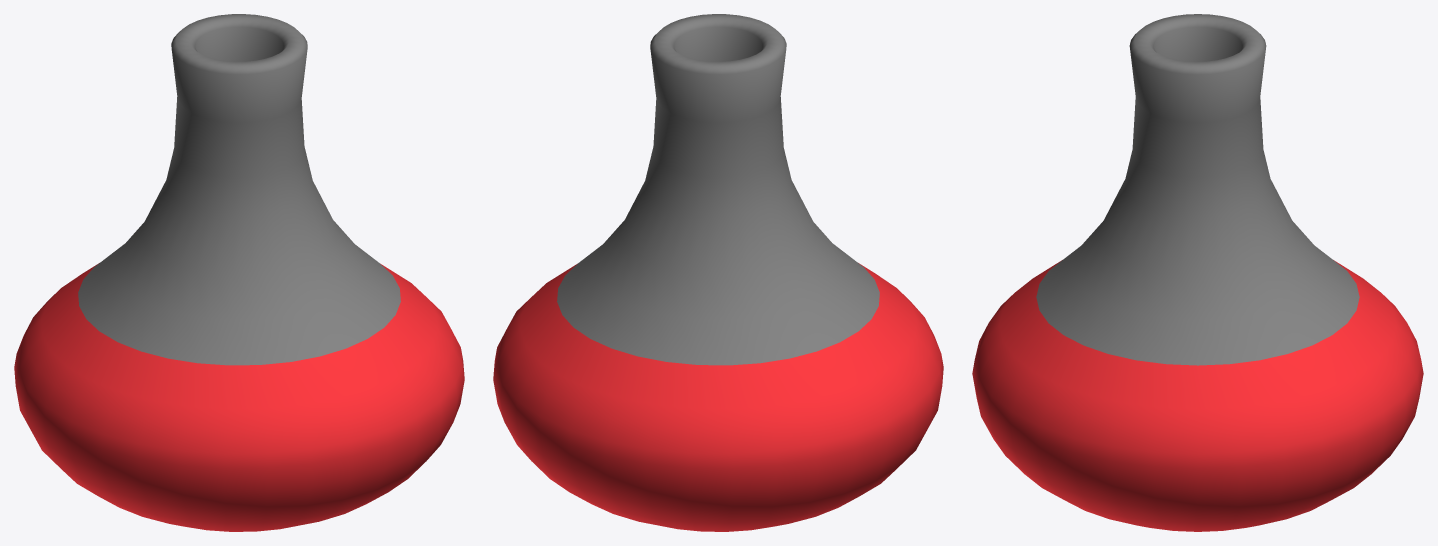
File: potion.glb
3 renders of one model, left to right at view 1: azimuth 30°, elevation 25°; view 2: azimuth 150°, elevation 25°; view 3: azimuth 270°, elevation 25°, orthographic.
Parts seen in each view (by area): view 1: potion; view 2: potion; view 3: potion.
Part boxes in pixels (x1=…): potion: x1=14, y1=14, x2=464, y2=531; potion: x1=493, y1=14, x2=943, y2=531; potion: x1=972, y1=14, x2=1423, y2=531.
Bounding box in the file's own units: 1.58 × 1.77 × 1.58.
Materials: 1 (1 with a texture image).
